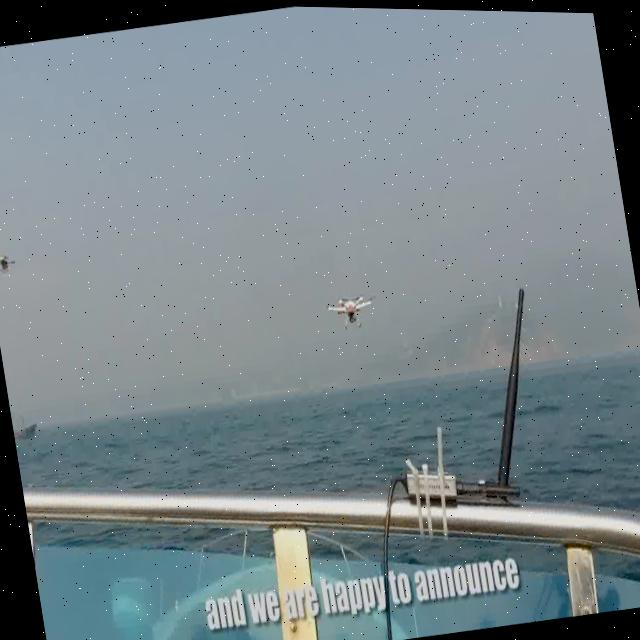drone: (322, 282, 378, 334), (0, 245, 18, 277)
